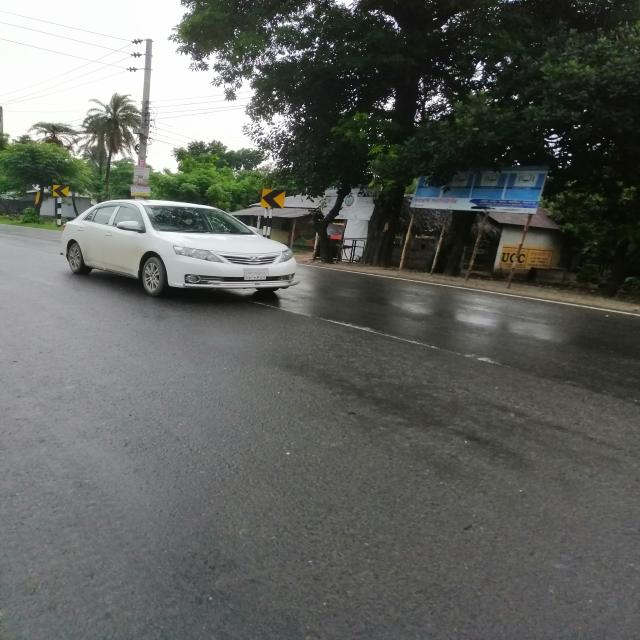Car: (60, 199, 302, 302)
